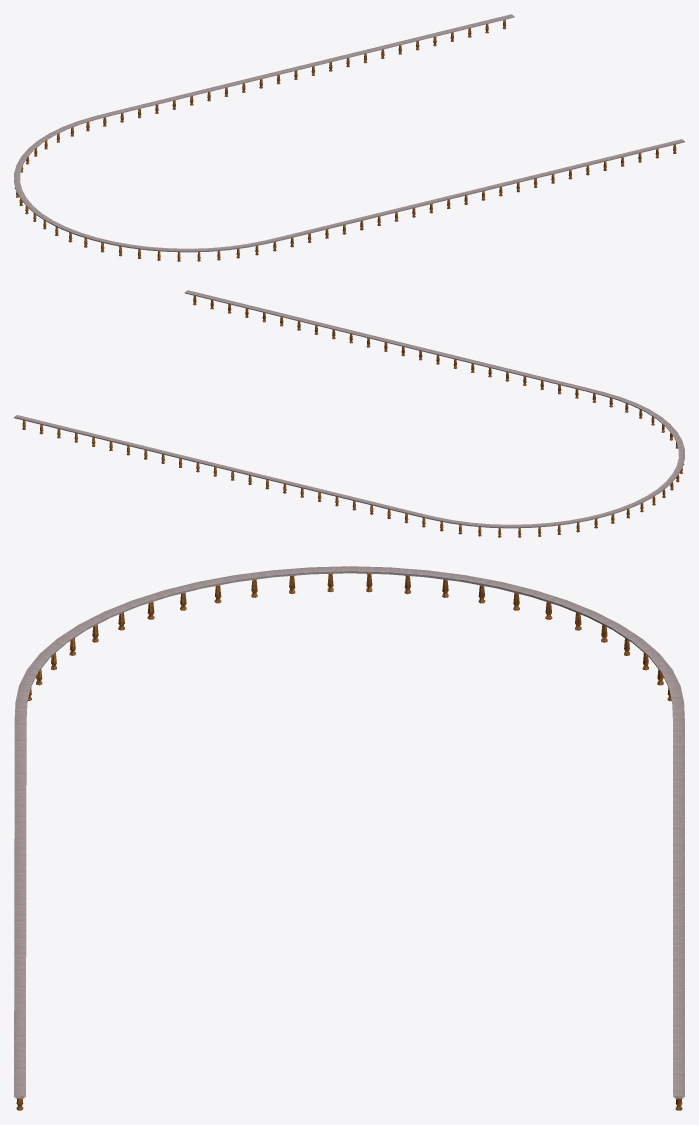
File: TopInnerRails.fbx
The picture shows the model from 3 angles, top to bottom: view 1: azimuth 30°, elevation 25°; view 2: azimuth 150°, elevation 25°; view 3: azimuth 270°, elevation 25°; orthographic projection. The views are drawn at different scales.
Visible parts, largest first — view 1: TopInnerRail; view 2: TopInnerRail; view 3: TopInnerRail.
Boxes of the visible parts, bbox=[...] form: TopInnerRail: bbox=[14, 14, 684, 261]; TopInnerRail: bbox=[14, 290, 684, 537]; TopInnerRail: bbox=[14, 566, 684, 1110].
Size of what is drawn, in the model's own units: 11191 by 212 by 5990.
